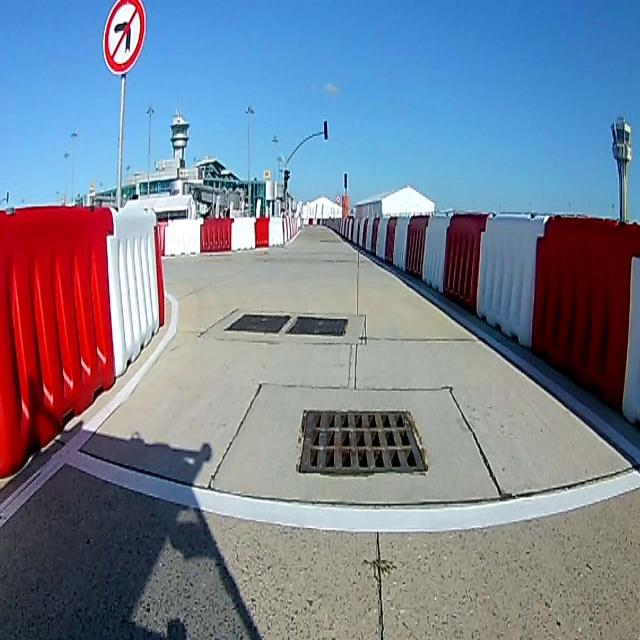soladonulmez: (102, 1, 146, 75)
